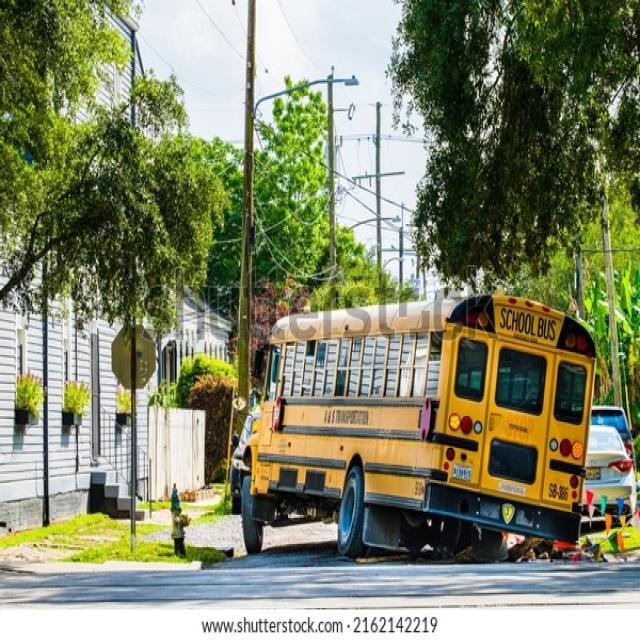Accident: (224, 282, 604, 583)
